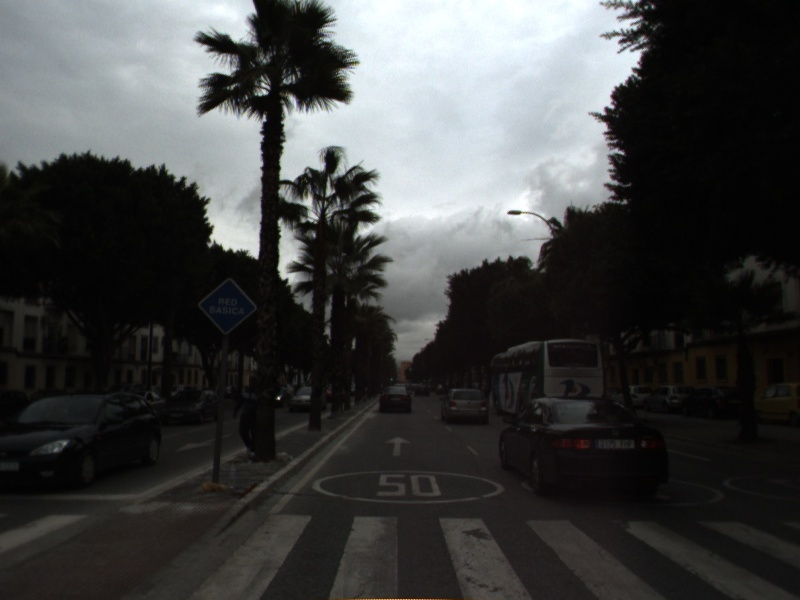STRAIGHT: (383, 434, 413, 458)
